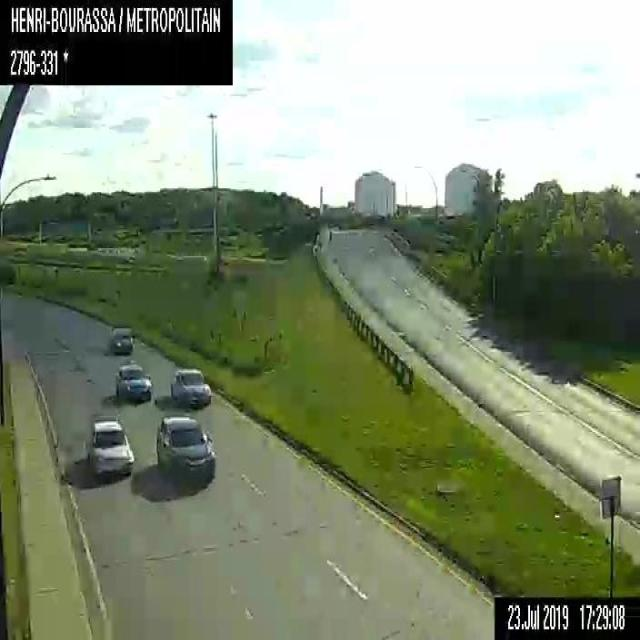vehicle: (154, 412, 216, 481), (86, 413, 134, 475), (169, 367, 212, 409), (115, 359, 152, 404), (110, 324, 134, 353)
